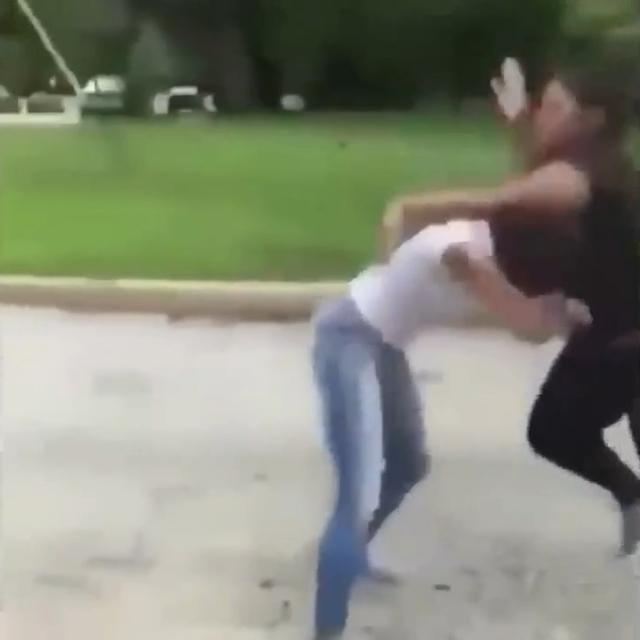violence: (314, 57, 640, 640)
